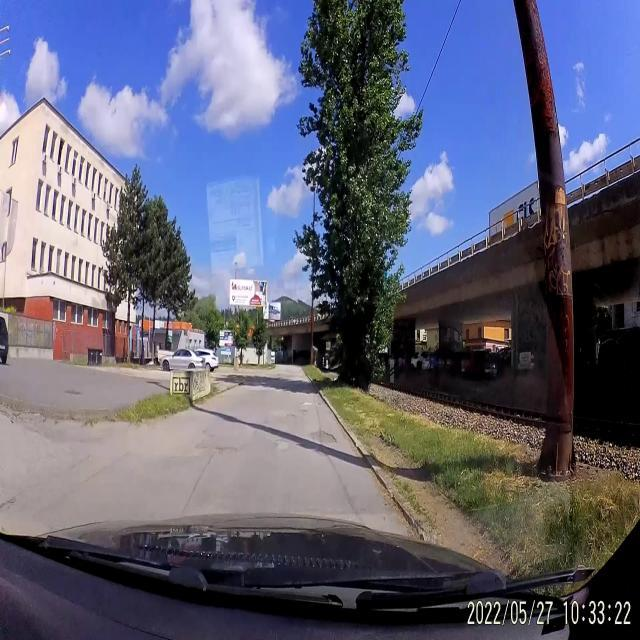Pothole: (310, 426, 338, 448)
